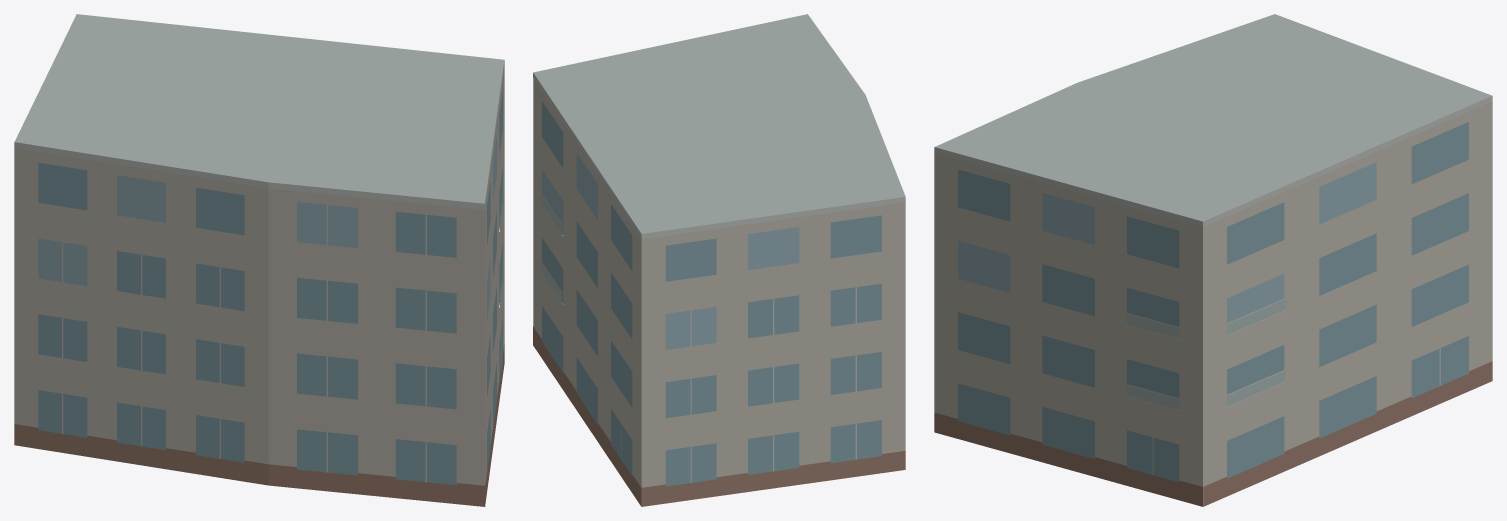
The model's file is survey-upis-32643103.glb.
3 views of the same model, side by side, from view 1: azimuth 30°, elevation 25°; view 2: azimuth 150°, elevation 25°; view 3: azimuth 270°, elevation 25° (orthographic). The views are drawn at different scales.
Parts seen in each view (by area): view 1: survey-upis-32643103.tmp; view 2: survey-upis-32643103.tmp; view 3: survey-upis-32643103.tmp.
Part boxes in pixels (x1=…): survey-upis-32643103.tmp: x1=14, y1=14, x2=504, y2=506; survey-upis-32643103.tmp: x1=533, y1=14, x2=905, y2=506; survey-upis-32643103.tmp: x1=934, y1=14, x2=1492, y2=506.
Bounding box in the file's own units: 19.04 × 12.2 × 21.63.
